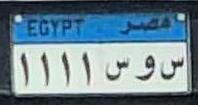1: (60, 51, 70, 85), (81, 52, 91, 85), (40, 52, 50, 85), (21, 53, 30, 85)
seen: (157, 54, 187, 82), (104, 55, 131, 81)
waw: (137, 54, 155, 84)
